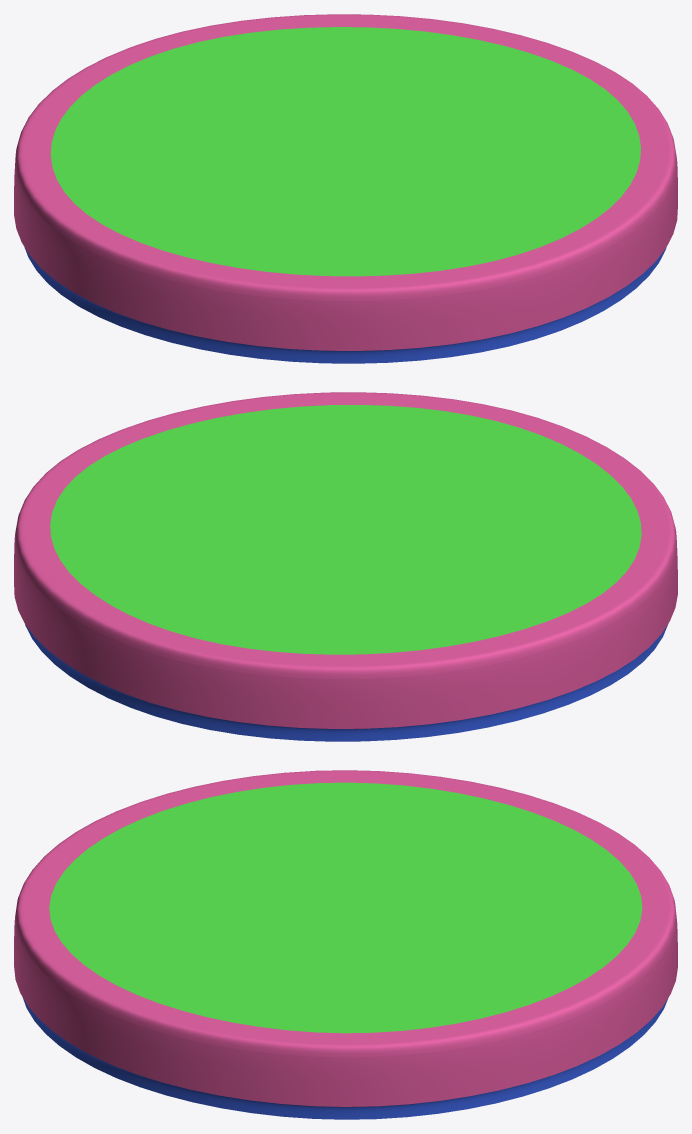
The model's file is Base_users.fbx.
3 renders of one model, top to bottom at view 1: azimuth 30°, elevation 25°; view 2: azimuth 150°, elevation 25°; view 3: azimuth 270°, elevation 25°, orthographic.
Visible parts, largest first — view 1: BAse_user; view 2: BAse_user; view 3: BAse_user.
Part boxes in pixels (x1=…): BAse_user: x1=14, y1=14, x2=677, y2=363; BAse_user: x1=14, y1=392, x2=677, y2=741; BAse_user: x1=14, y1=770, x2=677, y2=1119.
Size of the model in its own units: 180 by 22.18 by 179.
